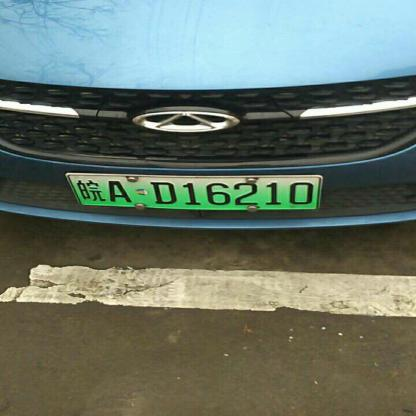lp: (66, 174, 320, 208)
